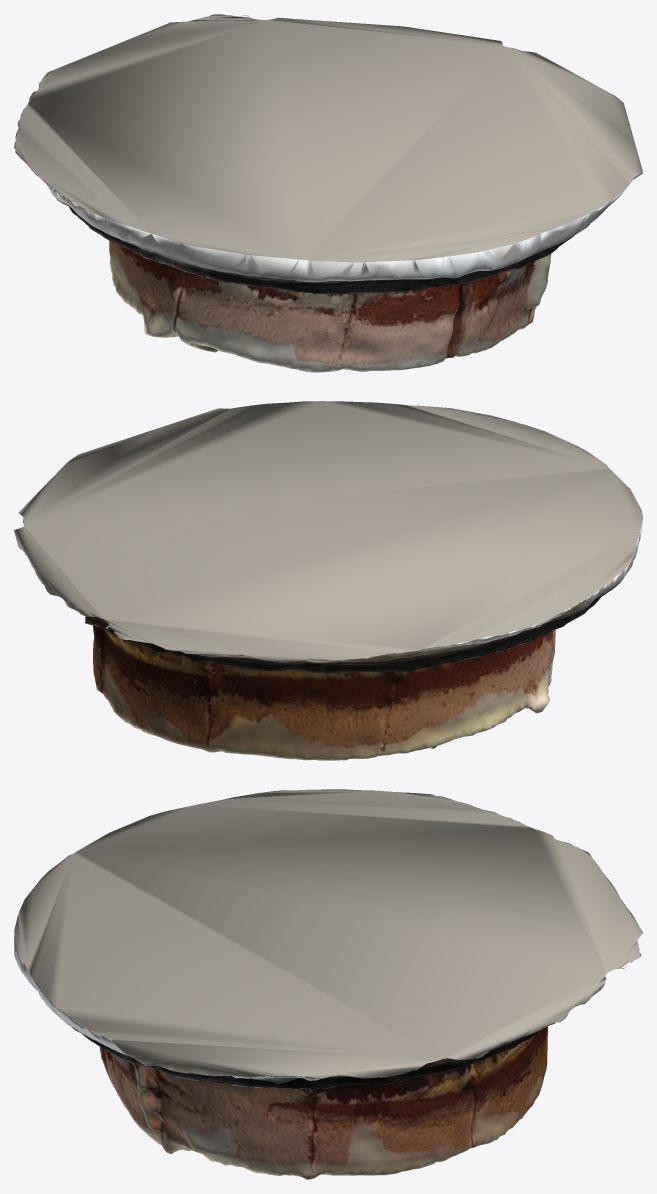
File: cake_34574.obj
The picture shows the model from 3 angles, top to bottom: view 1: azimuth 30°, elevation 25°; view 2: azimuth 150°, elevation 25°; view 3: azimuth 270°, elevation 25°; orthographic projection. The views are drawn at different scales.
Size of the model in its own units: 0.1761 by 0.0565 by 0.1767.
1 material, 1 textured.
